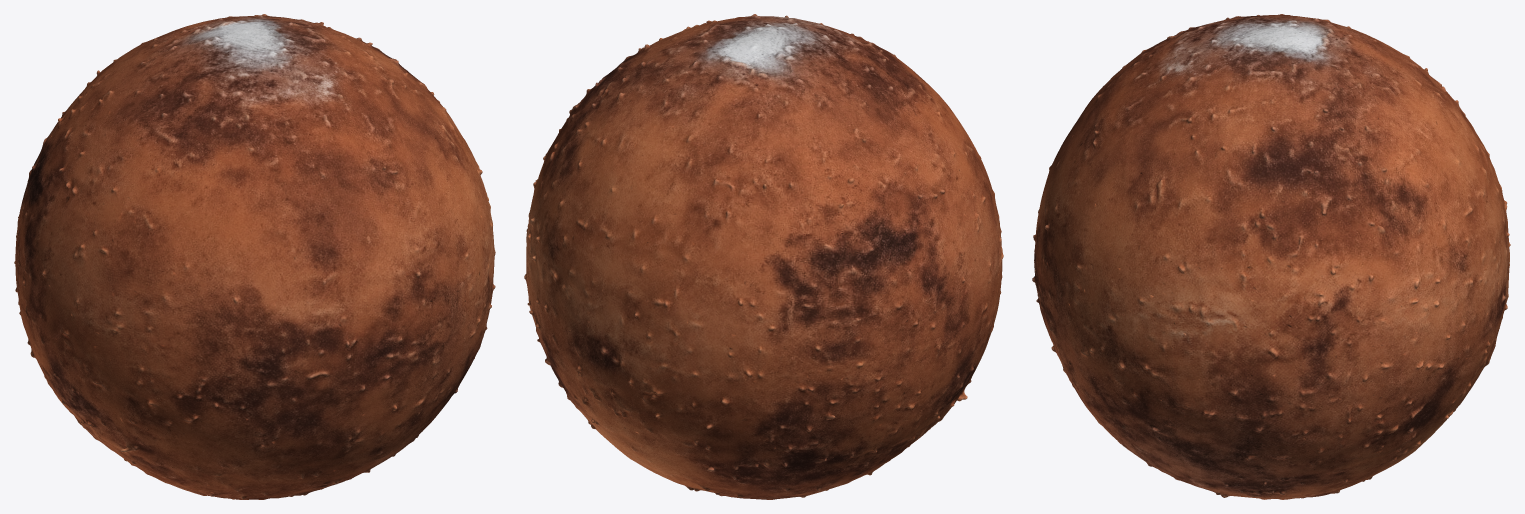
Rendered from marte.glb.
3 views of the same model, side by side, from view 1: azimuth 30°, elevation 25°; view 2: azimuth 150°, elevation 25°; view 3: azimuth 270°, elevation 25° (orthographic).
Visible parts, largest first — view 1: world; view 2: world; view 3: world.
Part boxes in pixels (box(x1,y1,x2,y2)): world: box(14, 14, 495, 499); world: box(524, 14, 1003, 499); world: box(1032, 14, 1510, 499).
Bounding box in the file's own units: 0.9902 × 1 × 0.9829.
1 material, 1 textured.
